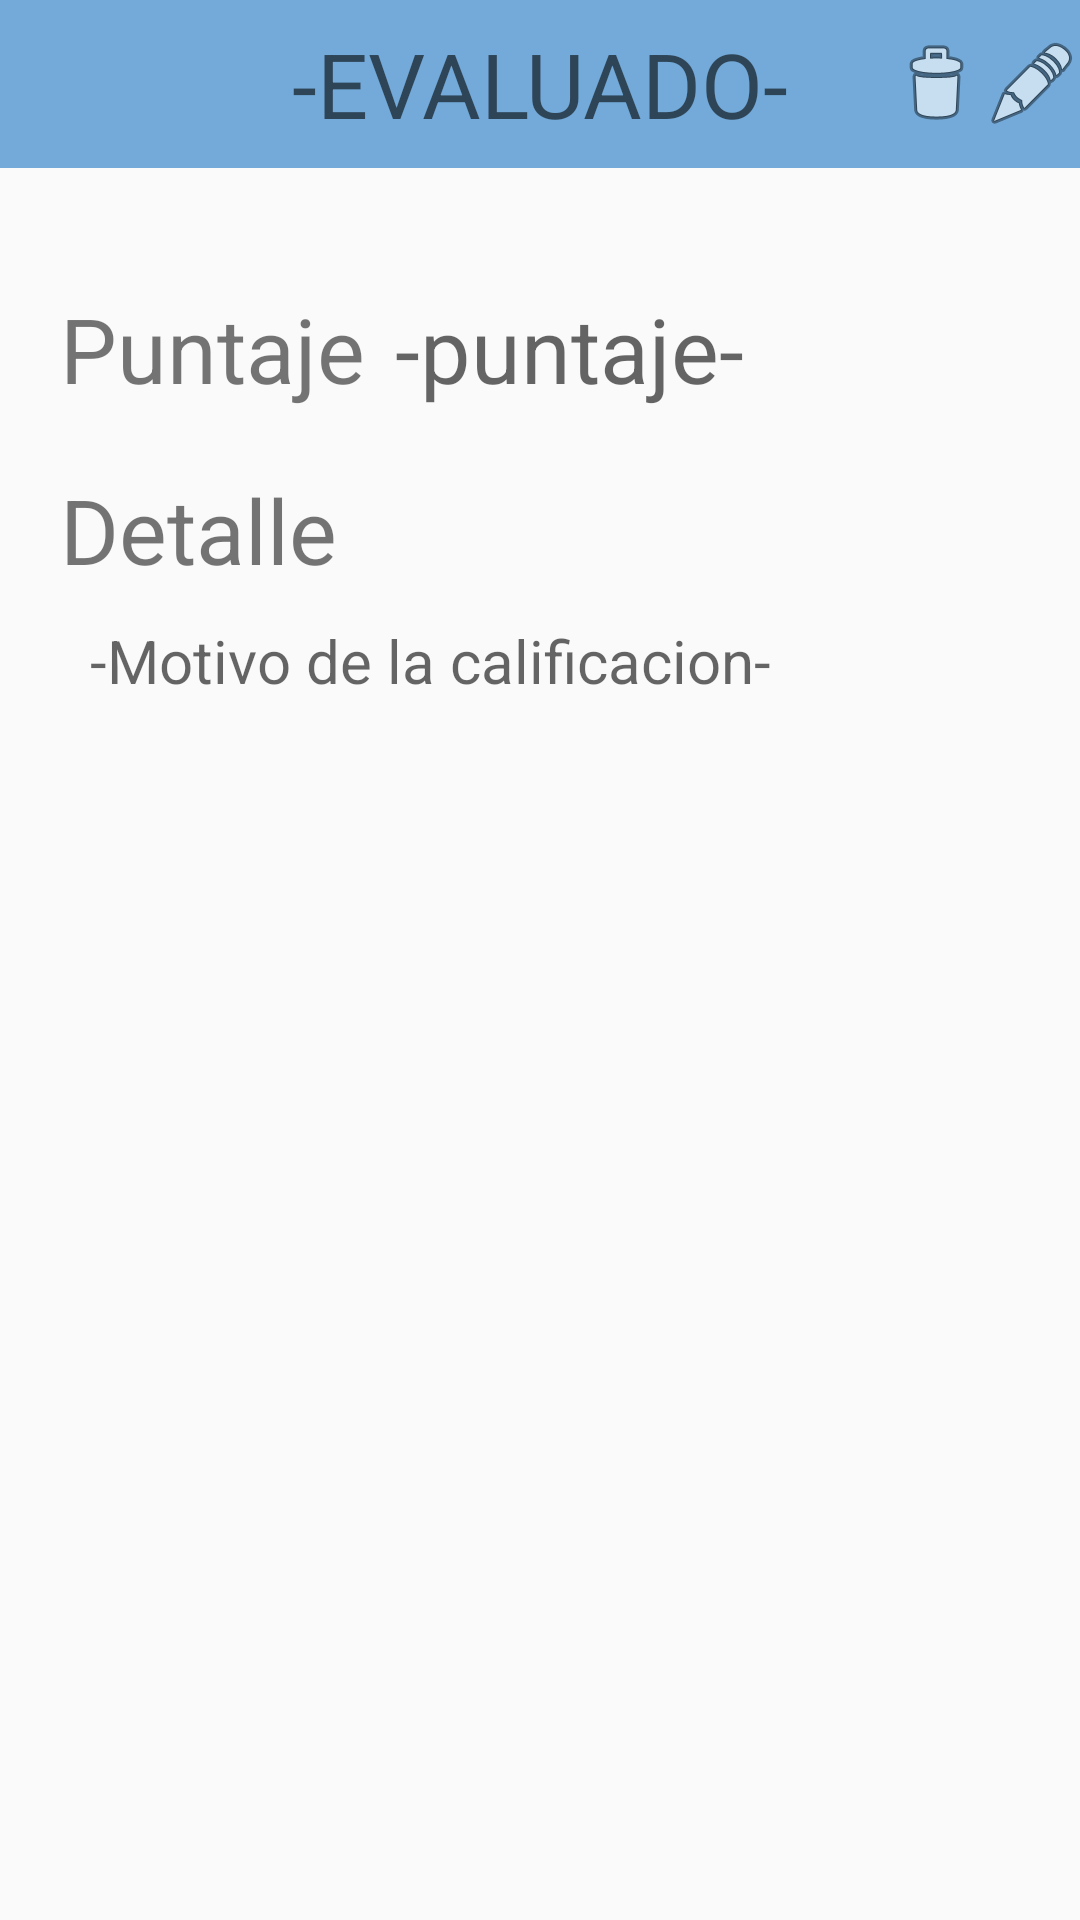

Icon bounding boxes for this 1080px x 1920px phone screenshot, format bbox=(x1, y1, x2, y2):
delete: bbox=(909, 45, 964, 120)
edit: bbox=(991, 43, 1072, 124)
